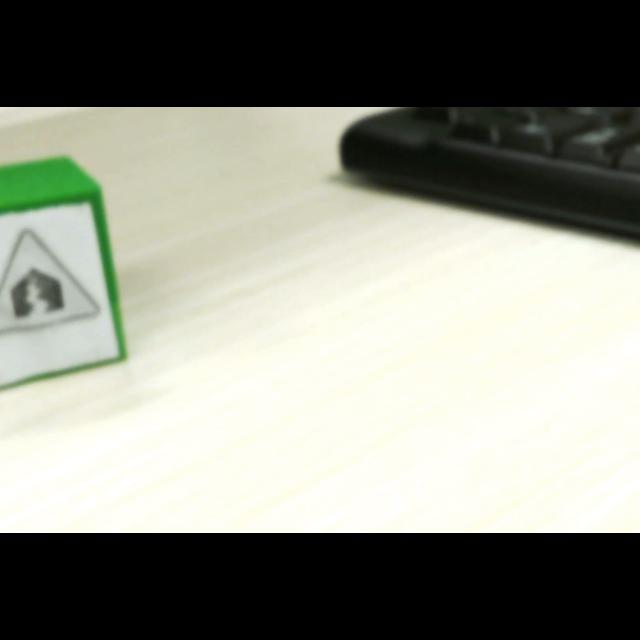Earthquake: (0, 230, 100, 334), (0, 230, 98, 335)
